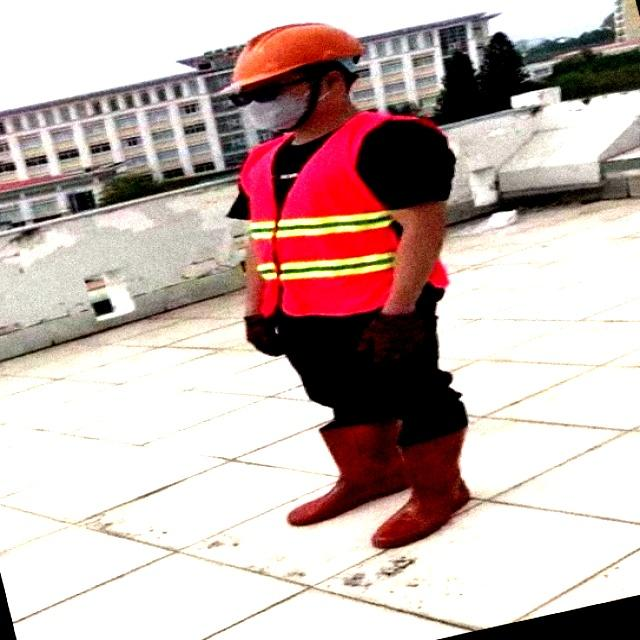helmet: (215, 10, 373, 94)
safety_vest: (242, 108, 448, 324)
